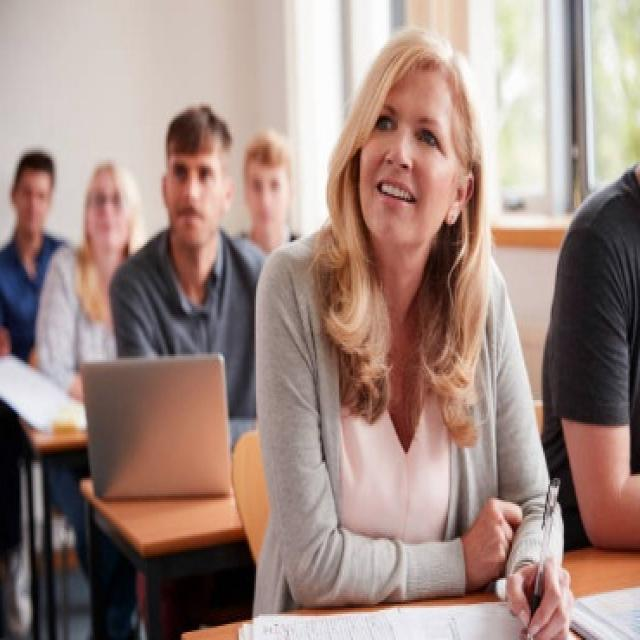adult: (238, 32, 556, 617), (115, 117, 243, 362), (0, 146, 61, 327)
